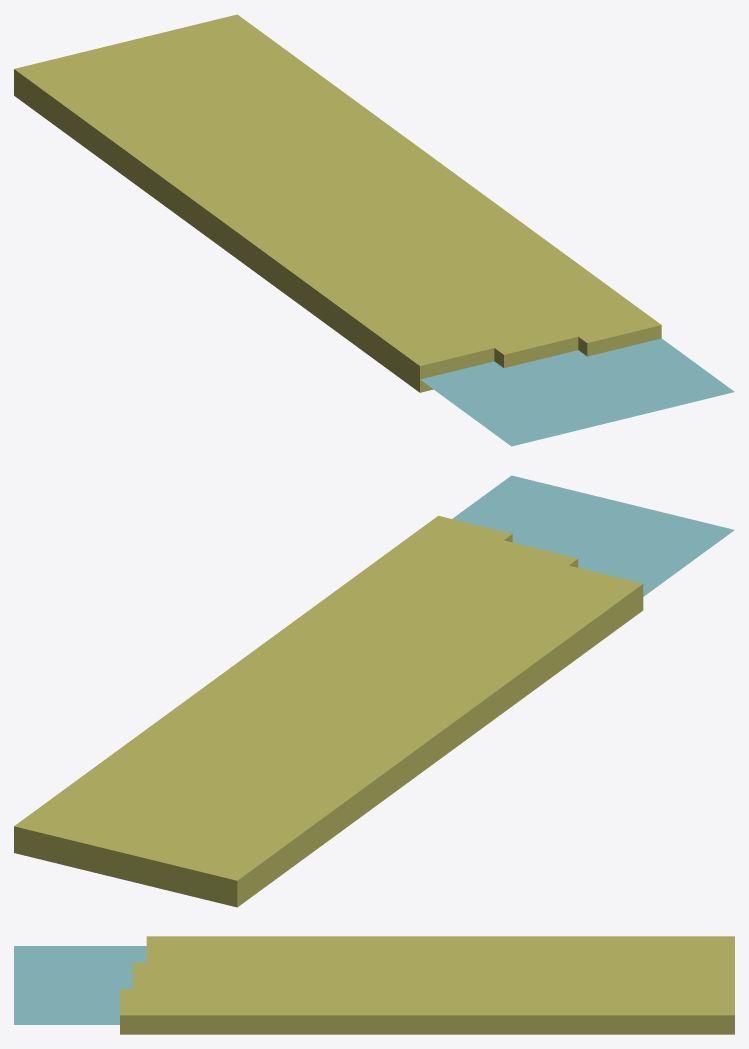
The model's file is Tile_Beach_01.fbx.
3 views of the same model, one above another, from view 1: azimuth 30°, elevation 25°; view 2: azimuth 150°, elevation 25°; view 3: azimuth 270°, elevation 25° (orthographic). The views are drawn at different scales.
Visible parts, largest first — view 1: Strand_01, Water1; view 2: Strand_01, Water1; view 3: Strand_01, Water1.
Part boxes in pixels (x1=…): Strand_01: x1=14, y1=14, x2=661, y2=392; Water1: x1=420, y1=338, x2=734, y2=446; Strand_01: x1=14, y1=515, x2=643, y2=907; Water1: x1=452, y1=475, x2=734, y2=596; Strand_01: x1=120, y1=936, x2=734, y2=1034; Water1: x1=14, y1=946, x2=146, y2=1024.
Bounding box in the file's own units: 35 × 4 × 135.
